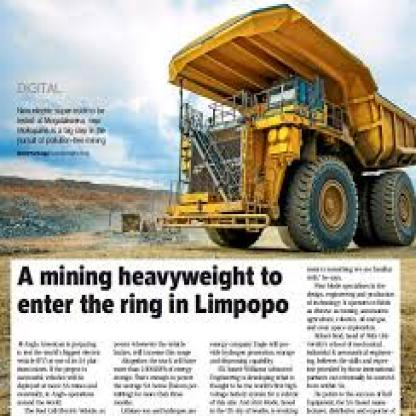dump_truck: (150, 6, 414, 261)
